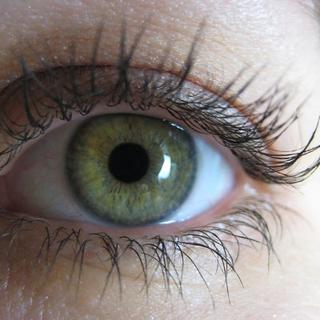pupil: (107, 142, 149, 185)
